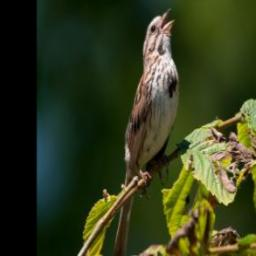Sparrow: (114, 5, 180, 253)
